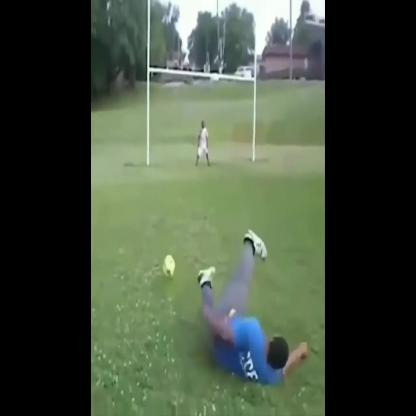Fall_Down: (197, 228, 310, 386)
